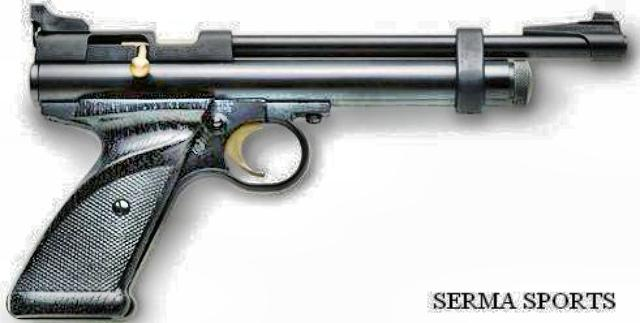pistol: (4, 1, 626, 316)
